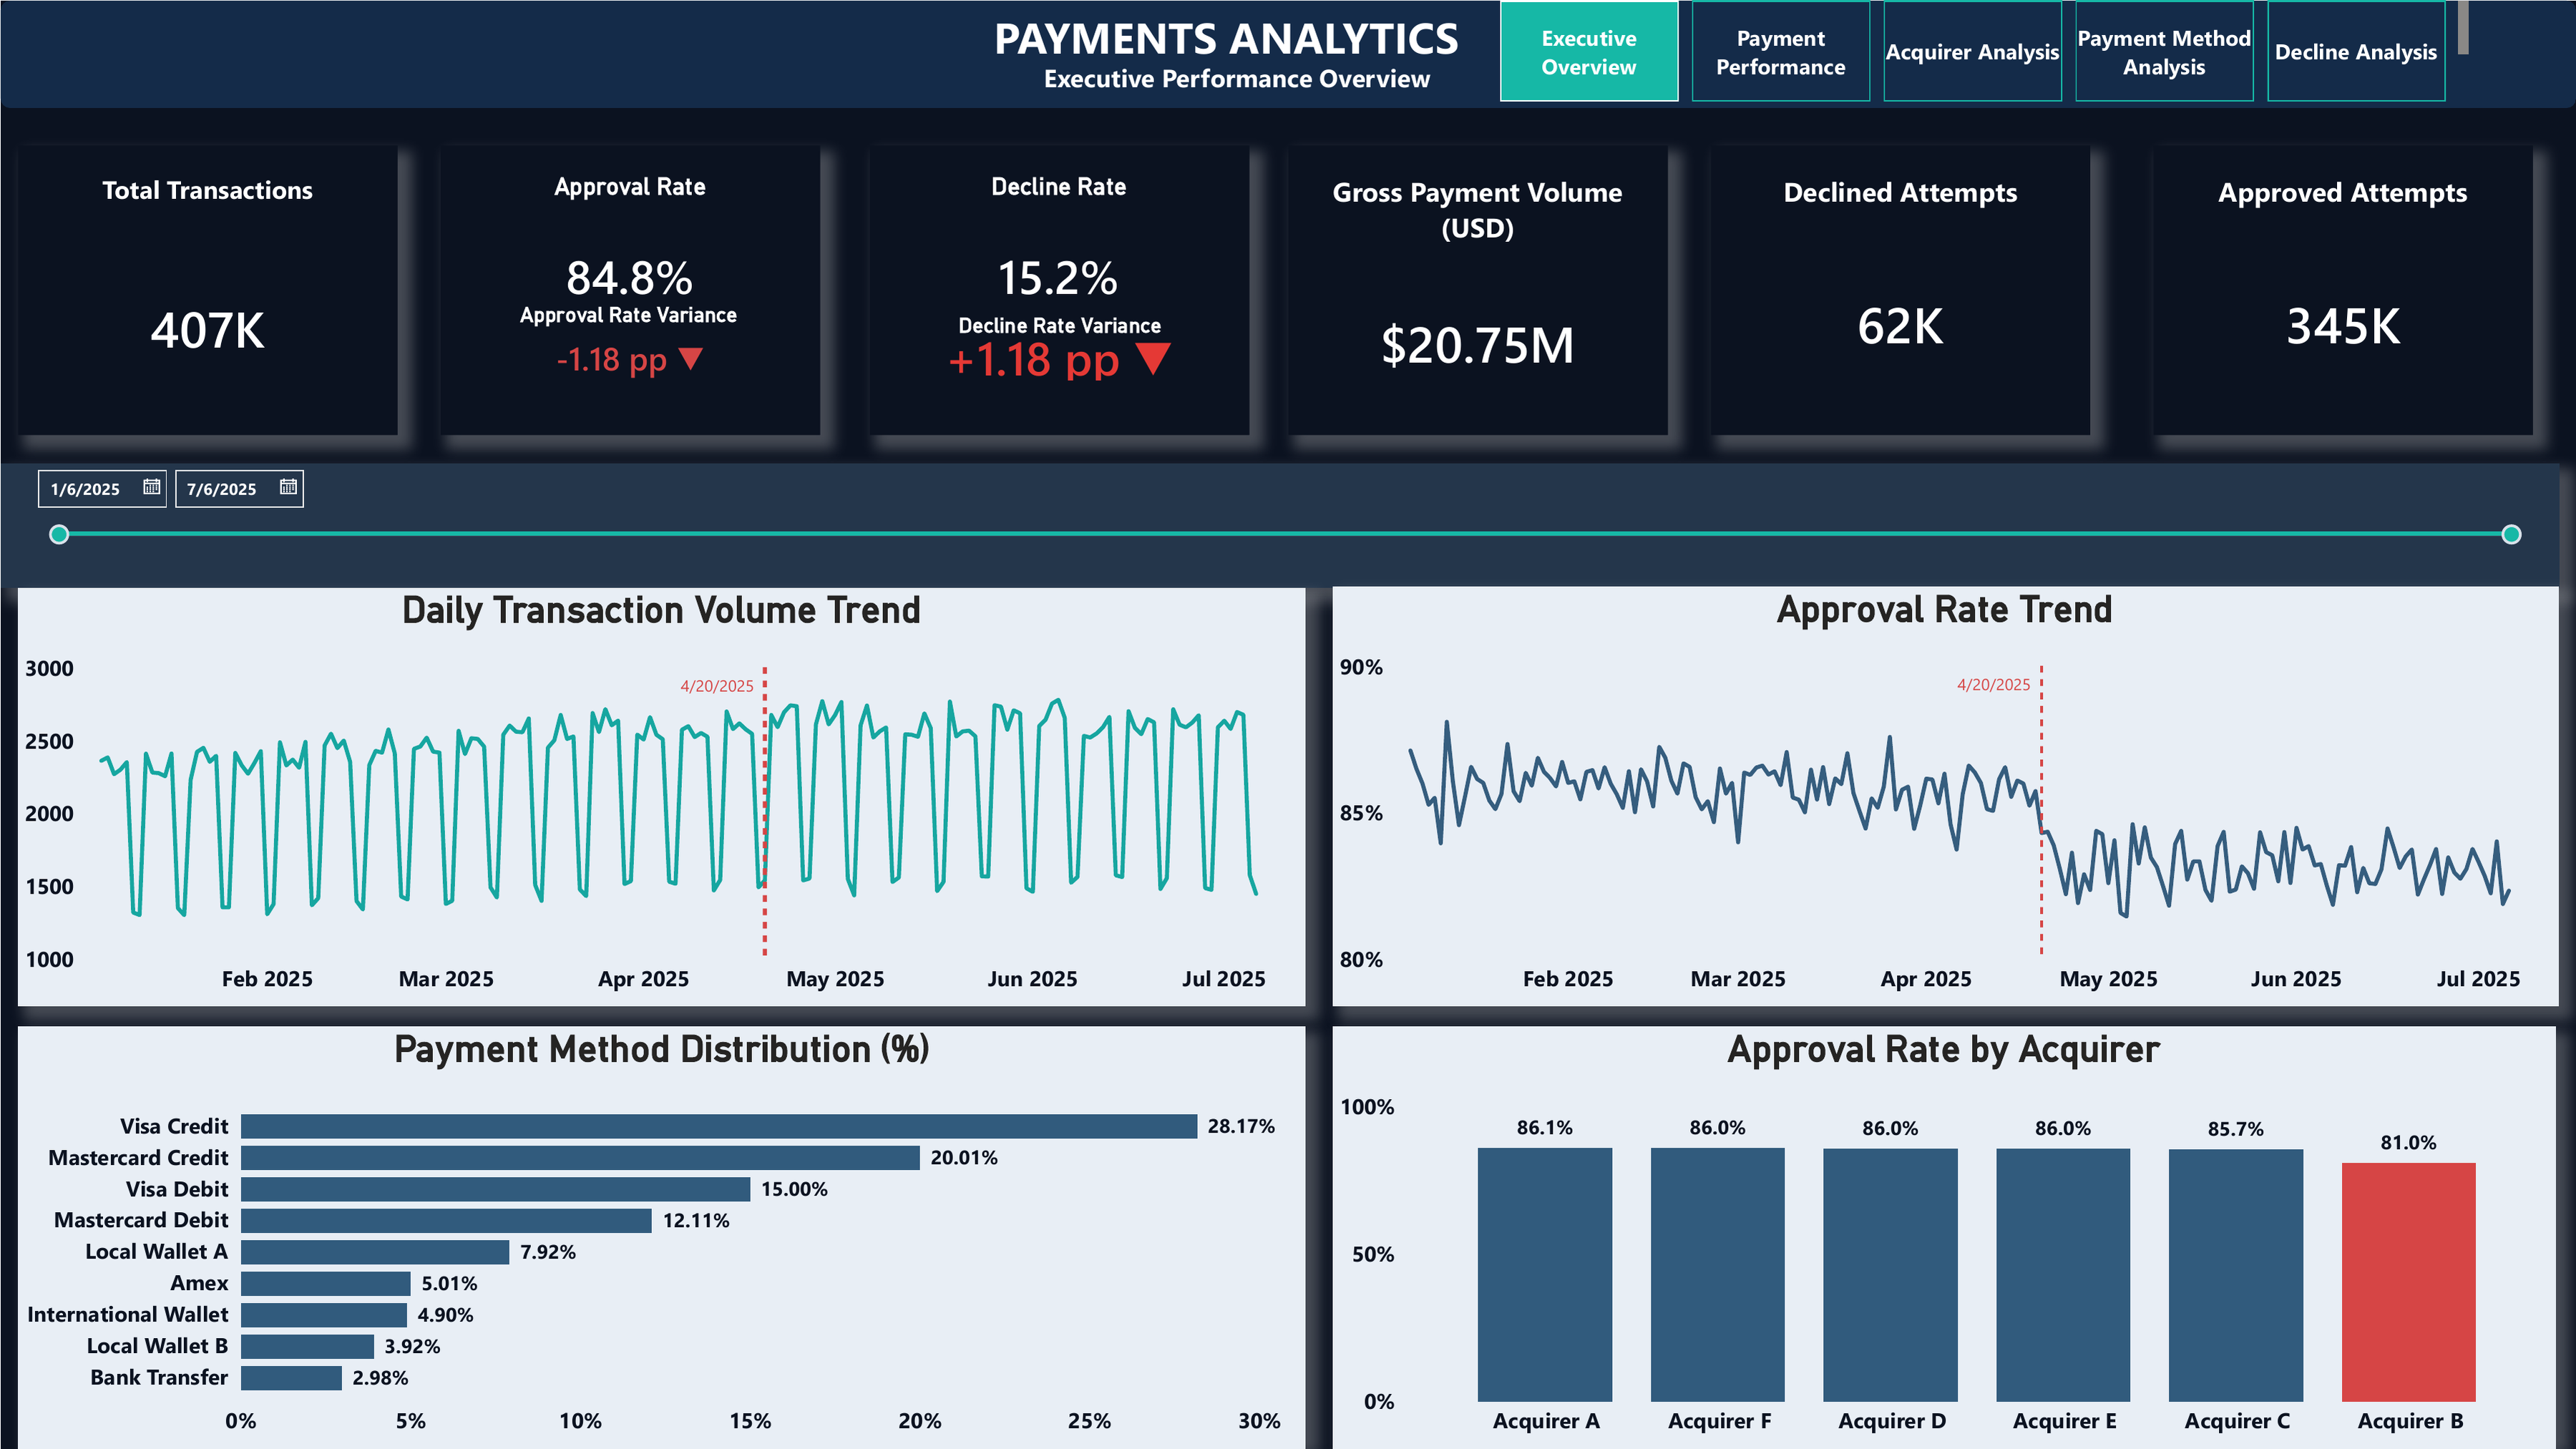

This screenshot's page, from the dashboard's own definition file:
{"tool":"powerbi","page":{"name":"Executive Overview","canvas":[1920,1080],"ordinal":0},"visuals":[{"type":"shape","box":[0,0,1920,80],"z":0},{"type":"textbox","box":[727.5,0,372.5,60],"z":1000},{"type":"textbox","box":[726.7,40,390,35],"z":2000},{"type":"textbox","title":"Approval Rate Variance","box":[362.5,225,211.7,30],"z":3000},{"type":"cardVisual","title":"Total Transactions","fields":{"Data":["_Measures.transaction count"]},"box":[12.5,107.5,283,216],"z":4000},{"type":"cardVisual","title":"Approval Rate","fields":{"Data":["_Measures.Approval Rate - All Attempts","_Measures.Approval Rate Variance Display"]},"box":[327.5,107.5,283.3,216.7],"z":5000},{"type":"slicer","title":"Date Range","fields":{"Values":["DimDate.FullDate"]},"box":[0,345,1907.5,92.5],"z":6000},{"type":"textbox","title":"Decline Rate Variance","box":[707.5,232.5,164.7,23.1],"z":7000},{"type":"lineChart","title":"Daily Transaction Volume Trend","fields":{"Category":["DimDate.Year Hierarchy.Year","DimDate.Year Hierarchy.Quarter","DimDate.Year Hierarchy.MonthName","DimDate.Year Hierarchy.WeekOfYear","DimDate.Year Hierarchy.FullDate"],"Y":["_Measures.transaction count"]},"box":[12.5,437.5,960,312.5],"z":8000},{"type":"cardVisual","title":"Declined Attempts","fields":{"Data":["_Measures.Declined Transactions"]},"box":[1275,107.5,283,216],"z":9000},{"type":"cardVisual","title":"Gross Payment Volume (USD)","fields":{"Data":["_Measures.Gross Payment Volume (GPV)"]},"box":[959.5,107.5,283,216],"z":10000},{"type":"cardVisual","title":"Decline Rate","fields":{"Data":["_Measures.Decline Rate - All Attempts","_Measures.Decline Rate Variance Display"]},"box":[647.5,107.5,283.3,216.7],"z":11000},{"type":"cardVisual","title":"Approved Attempts","fields":{"Data":["_Measures.Approved Transactions"]},"box":[1605,107.5,283,216],"z":12000},{"type":"lineChart","title":"Approval Rate Trend","fields":{"Category":["DimDate.Year Hierarchy.Year","DimDate.Year Hierarchy.Quarter","DimDate.Year Hierarchy.MonthName","DimDate.Year Hierarchy.WeekOfYear","DimDate.Year Hierarchy.FullDate"],"Y":["_Measures.Approval Rate - All Attempts"]},"box":[993.3,436.9,913.3,313.3],"z":13000},{"type":"barChart","title":"Payment Method Distribution (%)","fields":{"Category":["DimPaymentMethod.PaymentMethodName"],"Y":["_Measures.Payment Method Mix %"]},"box":[12.5,765,960,315],"z":14000},{"type":"clusteredColumnChart","title":"Approval Rate by Acquirer","fields":{"Category":["DimAcquirer.AcquirerName"],"Y":["_Measures.Approval Rate - All Attempts"]},"box":[992.5,765,912.5,315],"z":15000},{"type":"pageNavigator","box":[1117.5,0,722.5,80],"z":16000}]}

Visuals, with their boxes in screenshot pixels (x1, y1, x2, y2), scaled from the page's 1920x1080 canvas onto the 2576x1449 screenshot:
shape: Rect(0, 0, 2575, 107)
textbox: Rect(976, 0, 1475, 80)
textbox: Rect(975, 54, 1498, 101)
"Approval Rate Variance" textbox: Rect(487, 302, 771, 342)
"Total Transactions" cardVisual: Rect(16, 145, 396, 434)
"Approval Rate" cardVisual: Rect(439, 145, 819, 435)
"Date Range" slicer: Rect(0, 463, 2560, 587)
"Decline Rate Variance" textbox: Rect(950, 312, 1170, 343)
"Daily Transaction Volume Trend" lineChart: Rect(16, 587, 1304, 1006)
"Declined Attempts" cardVisual: Rect(1711, 145, 2090, 434)
"Gross Payment Volume (USD)" cardVisual: Rect(1287, 145, 1667, 434)
"Decline Rate" cardVisual: Rect(869, 145, 1249, 435)
"Approved Attempts" cardVisual: Rect(2153, 145, 2533, 434)
"Approval Rate Trend" lineChart: Rect(1332, 586, 2558, 1007)
"Payment Method Distribution (%)" barChart: Rect(16, 1026, 1304, 1448)
"Approval Rate by Acquirer" clusteredColumnChart: Rect(1332, 1026, 2556, 1448)
pageNavigator: Rect(1499, 0, 2469, 107)
